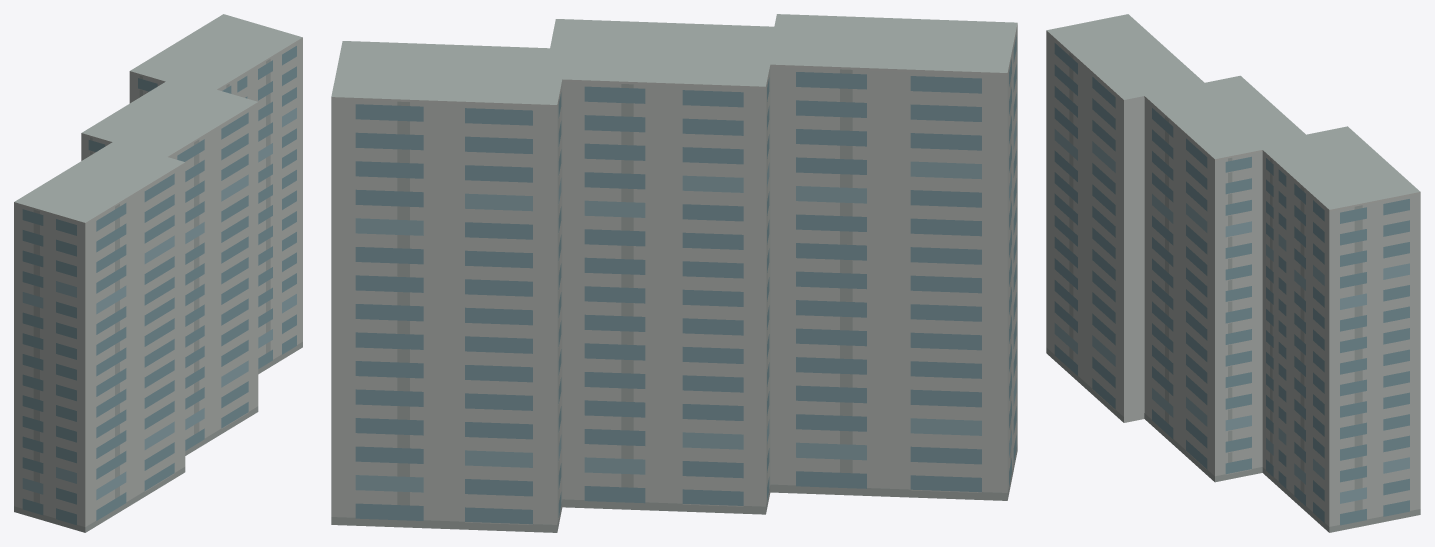
Rendered from residential-9a13af2a-7ad2-40ec-95eb-8b5c7f7c224a.glb.
3 renders of one model, left to right at view 1: azimuth 30°, elevation 25°; view 2: azimuth 150°, elevation 25°; view 3: azimuth 270°, elevation 25°, orthographic. The views are drawn at different scales.
Parts seen in each view (by area): view 1: residential-9a13af2a-7ad2-40ec-95eb-8b5c7f7c224a.tmp; view 2: residential-9a13af2a-7ad2-40ec-95eb-8b5c7f7c224a.tmp; view 3: residential-9a13af2a-7ad2-40ec-95eb-8b5c7f7c224a.tmp.
Part boxes in pixels (x1,y1,x2,y2): residential-9a13af2a-7ad2-40ec-95eb-8b5c7f7c224a.tmp: (14,14,302,532); residential-9a13af2a-7ad2-40ec-95eb-8b5c7f7c224a.tmp: (331,14,1017,532); residential-9a13af2a-7ad2-40ec-95eb-8b5c7f7c224a.tmp: (1046,14,1420,532).
Bounding box in the file's own units: 58.55 × 45 × 47.25.
